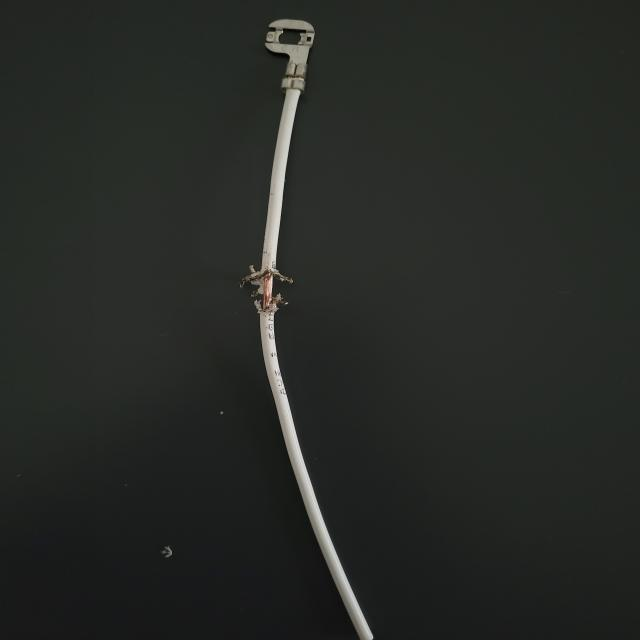defect: (175, 196, 398, 378)
